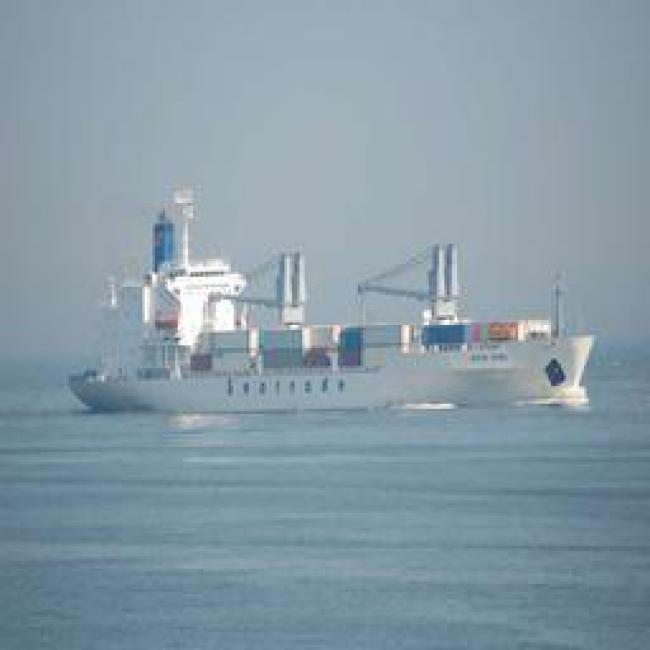Ship: (59, 216, 607, 415)
